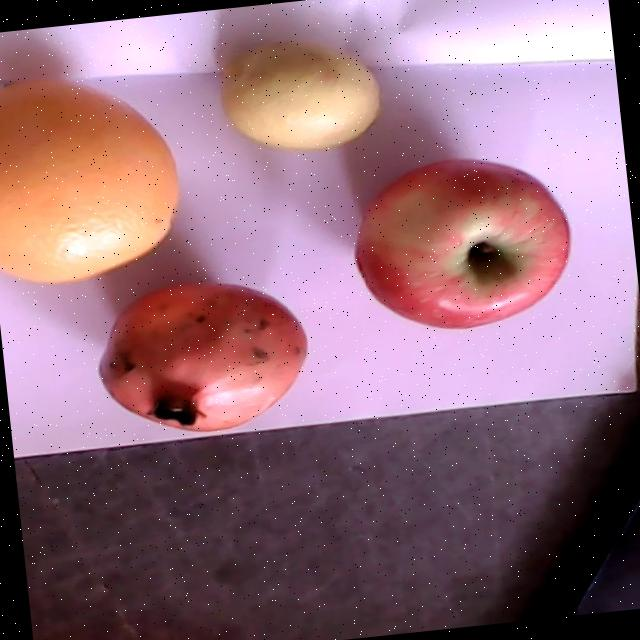apple: (354, 158, 569, 329)
lemon: (217, 39, 383, 150)
orange: (0, 75, 177, 284)
pomegranate: (96, 281, 308, 431)
